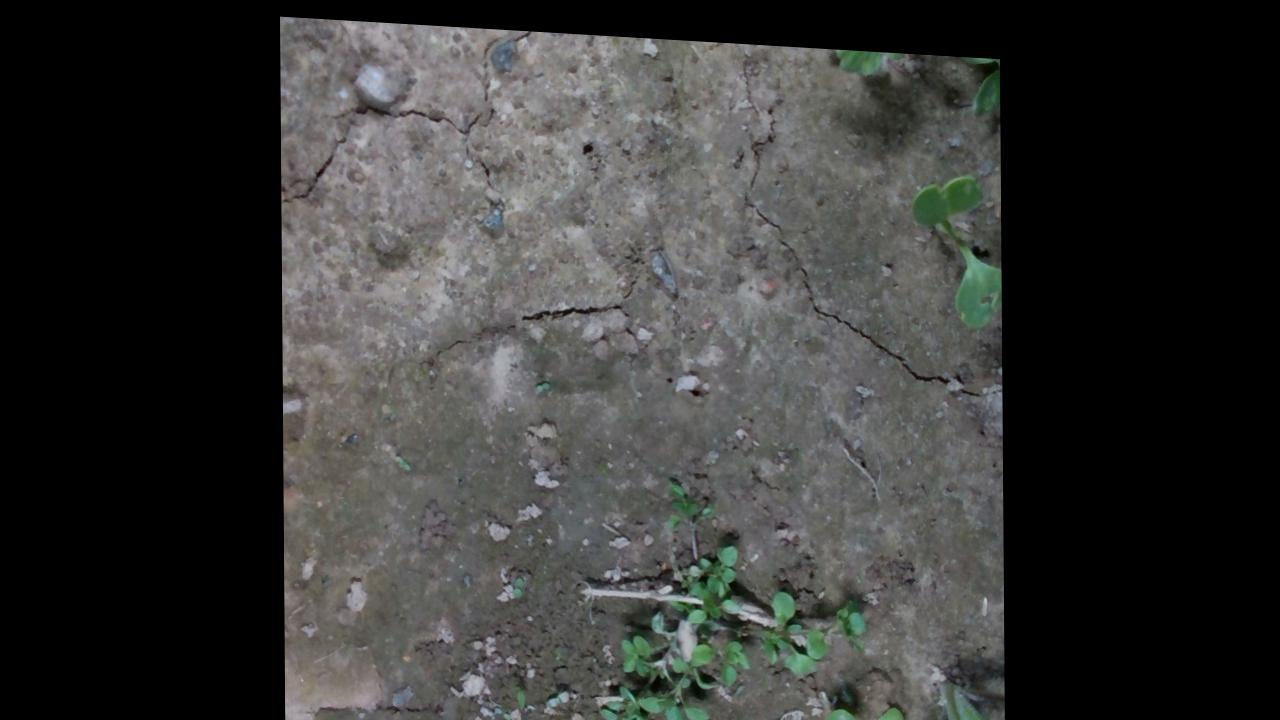weed: (391, 449, 410, 468), (509, 571, 522, 595), (531, 375, 550, 389)
